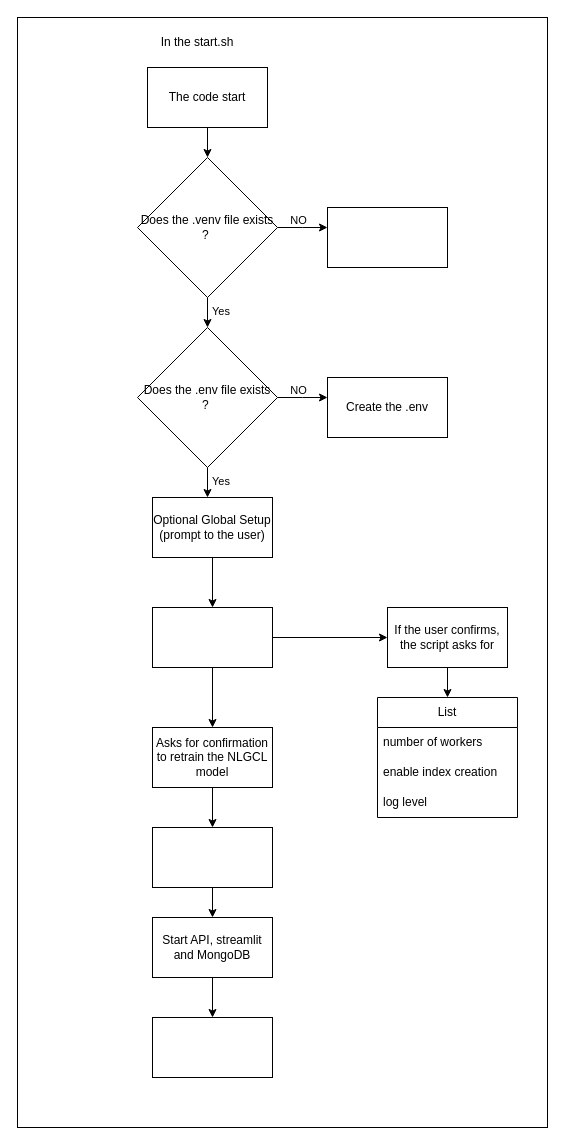
Some shapes in this 565 by 1145 pixel diagram are drawn without their labels. The centre of each missing label's shape, as x and y in pixels:
"Asks for confirmation to retrain the GenSar model" goes at point (212, 857).
"Create the .venv" goes at point (387, 237).
"Displays the URLs to access the API" goes at point (212, 1047).
"MongoDB Import" goes at point (212, 637).
